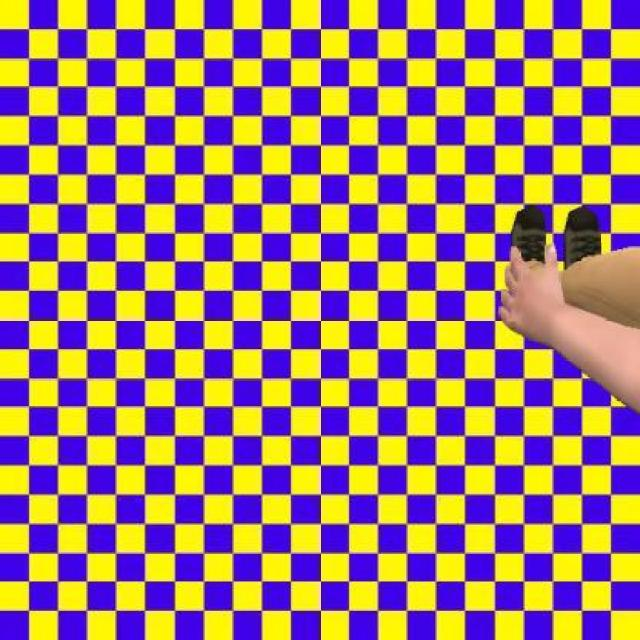Person: (497, 200, 638, 418)
